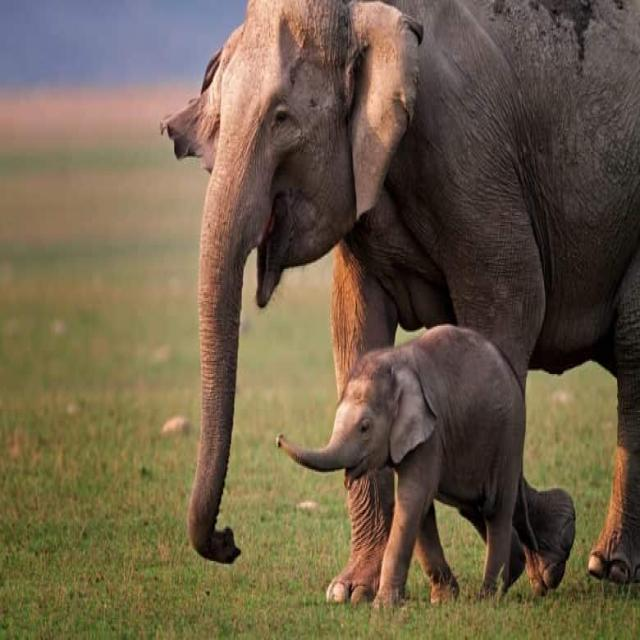Elephant: (155, 0, 640, 614), (279, 322, 531, 607)
